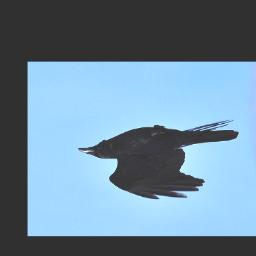Crow: (77, 118, 240, 200)
